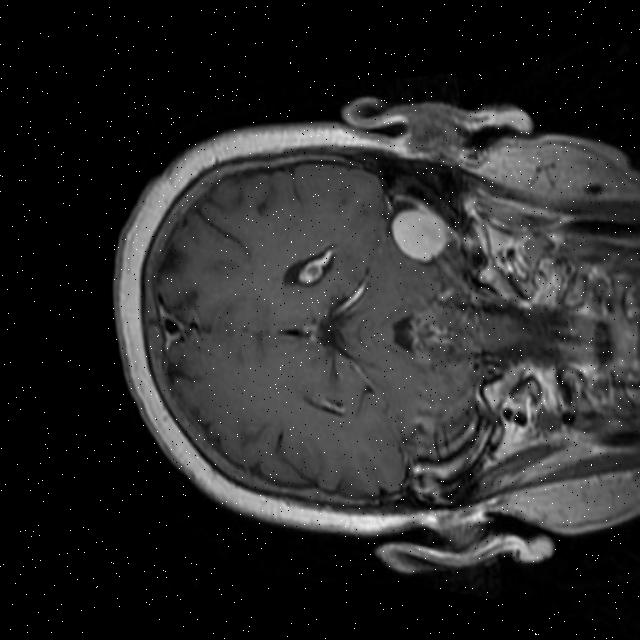Meningioma: (388, 204, 455, 264)
